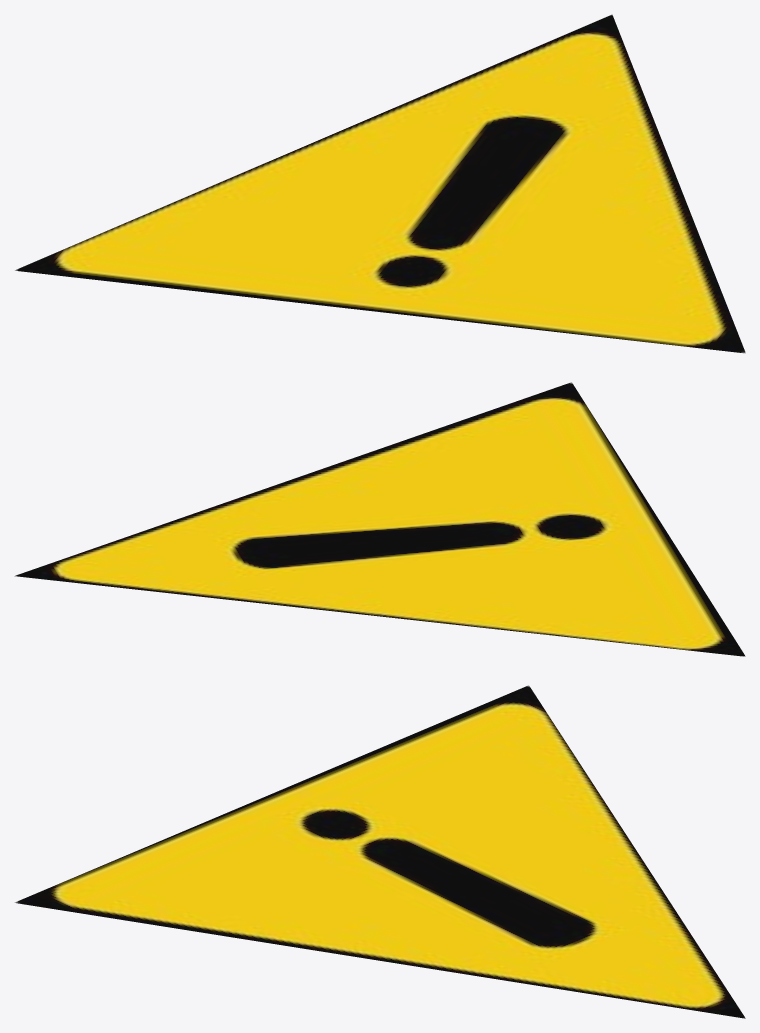
Rendered from caution sign.glb.
3 views of the same model, one above another, from view 1: azimuth 30°, elevation 25°; view 2: azimuth 150°, elevation 25°; view 3: azimuth 270°, elevation 25° (orthographic). The views are drawn at different scales.
Visible parts, largest first — view 1: Caution Sign; view 2: Caution Sign; view 3: Caution Sign.
Part boxes in pixels (box(x1,y1,x2,y2)): Caution Sign: box(14, 14, 745, 353); Caution Sign: box(14, 382, 745, 656); Caution Sign: box(14, 685, 745, 1018).
Bounding box in the file's own units: 0.4069 × 1.98e-09 × 0.3774.
Materials: 1 (1 with a texture image).
